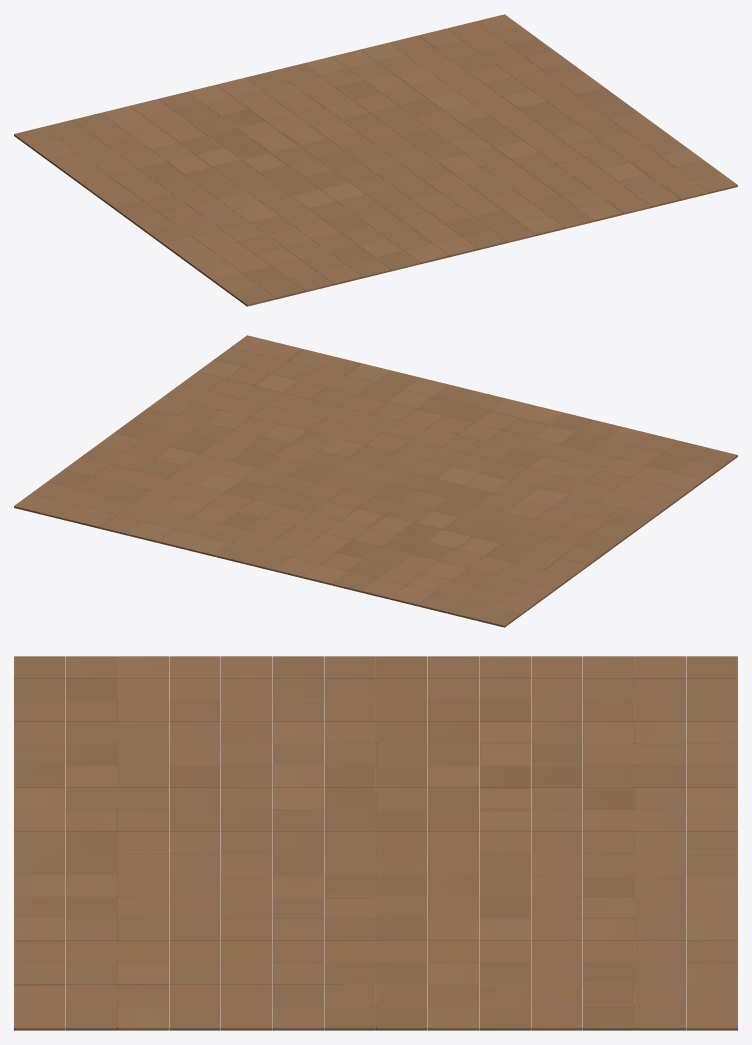
File: RumpusFloor.fbx
The picture shows the model from 3 angles, top to bottom: view 1: azimuth 30°, elevation 25°; view 2: azimuth 150°, elevation 25°; view 3: azimuth 270°, elevation 25°; orthographic projection. The views are drawn at different scales.
Parts seen in each view (by area): view 1: Cube.016; view 2: Cube.016; view 3: Cube.016.
Part boxes in pixels (x1=…): Cube.016: x1=14, y1=14, x2=737, y2=306; Cube.016: x1=14, y1=335, x2=737, y2=627; Cube.016: x1=14, y1=656, x2=737, y2=1030.
Size of the model in its own units: 3146 by 11.2 by 2591.
